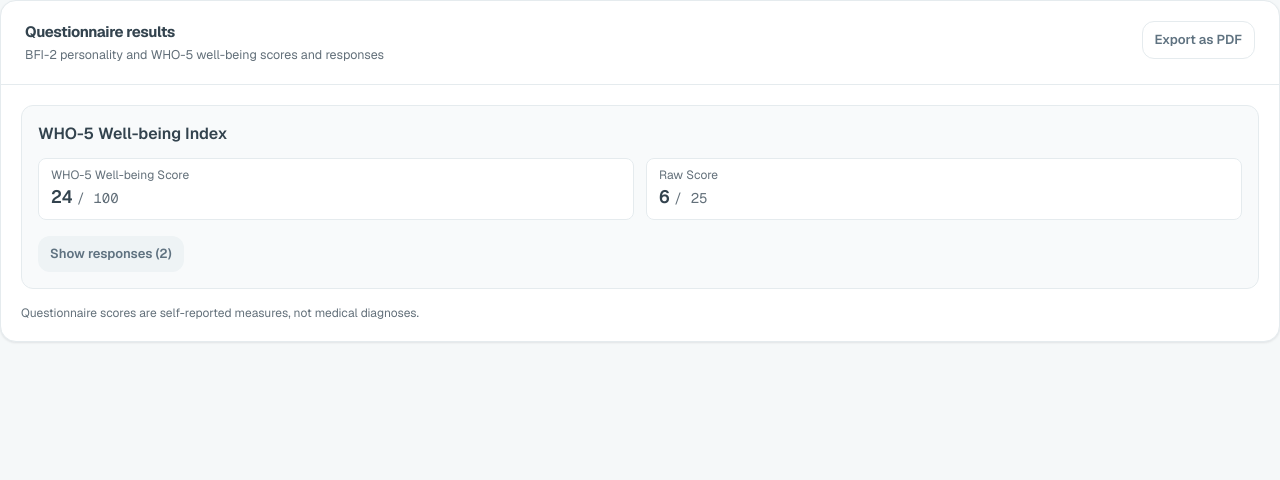
QuestionnaireResults › shows each question with its answer label once expanded
The image size is (1280, 480).
Check: the text "I have felt cheerful" is not shown
Click the button "Show responses (2)": {"x": 111, "y": 254} [38,236,184,272]
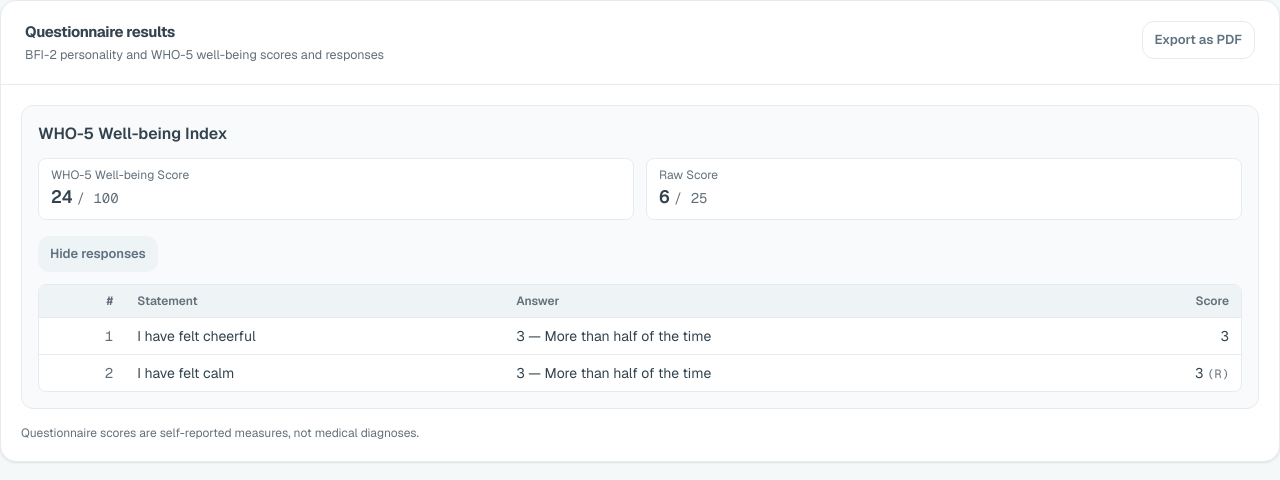
Check: the text "I have felt cheerful" is shown, box [125,317,504,354]
Check: the text "3 — More than half of the time" is shown 2 times, box [504,317,1087,354]; [504,354,1087,391]
Check: the text "(R)" is shown, box [1207,366,1229,382]
